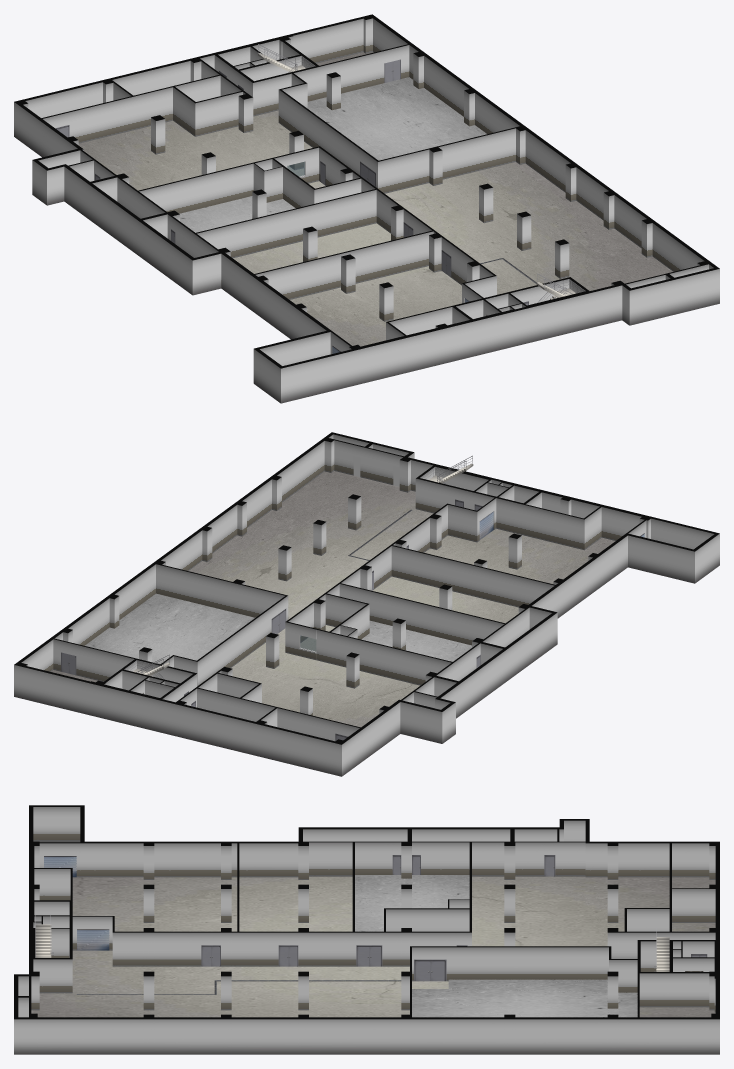
3 renders of one model, top to bottom at view 1: azimuth 30°, elevation 25°; view 2: azimuth 150°, elevation 25°; view 3: azimuth 270°, elevation 25°, orthographic. The views are drawn at different scales.
Parts seen in each view (by area): view 1: Rectangle1585, W&FF-B1F, Rectangle1599; view 2: Rectangle1585, W&FF-B1F, Rectangle1599; view 3: Rectangle1585, W&FF-B1F, Rectangle1599, Railing064, Railing063, Line1080.
Boxes of the visible parts, bbox=[...] form: Rectangle1585: bbox=[14, 14, 719, 403]; W&FF-B1F: bbox=[78, 52, 673, 346]; Rectangle1599: bbox=[55, 59, 528, 353]; Rectangle1585: bbox=[14, 432, 719, 776]; W&FF-B1F: bbox=[51, 471, 615, 727]; Rectangle1599: bbox=[61, 499, 644, 740]; Rectangle1585: bbox=[14, 805, 719, 1054]; W&FF-B1F: bbox=[31, 875, 715, 1017]; Rectangle1599: bbox=[44, 855, 707, 981]; Railing064: bbox=[35, 915, 69, 957]; Railing063: bbox=[654, 928, 669, 971]; Line1080: bbox=[76, 980, 401, 994].
Size of the model in its own units: 47.15 by 5.98 by 65.75.
Materials: 14 (11 with a texture image).
